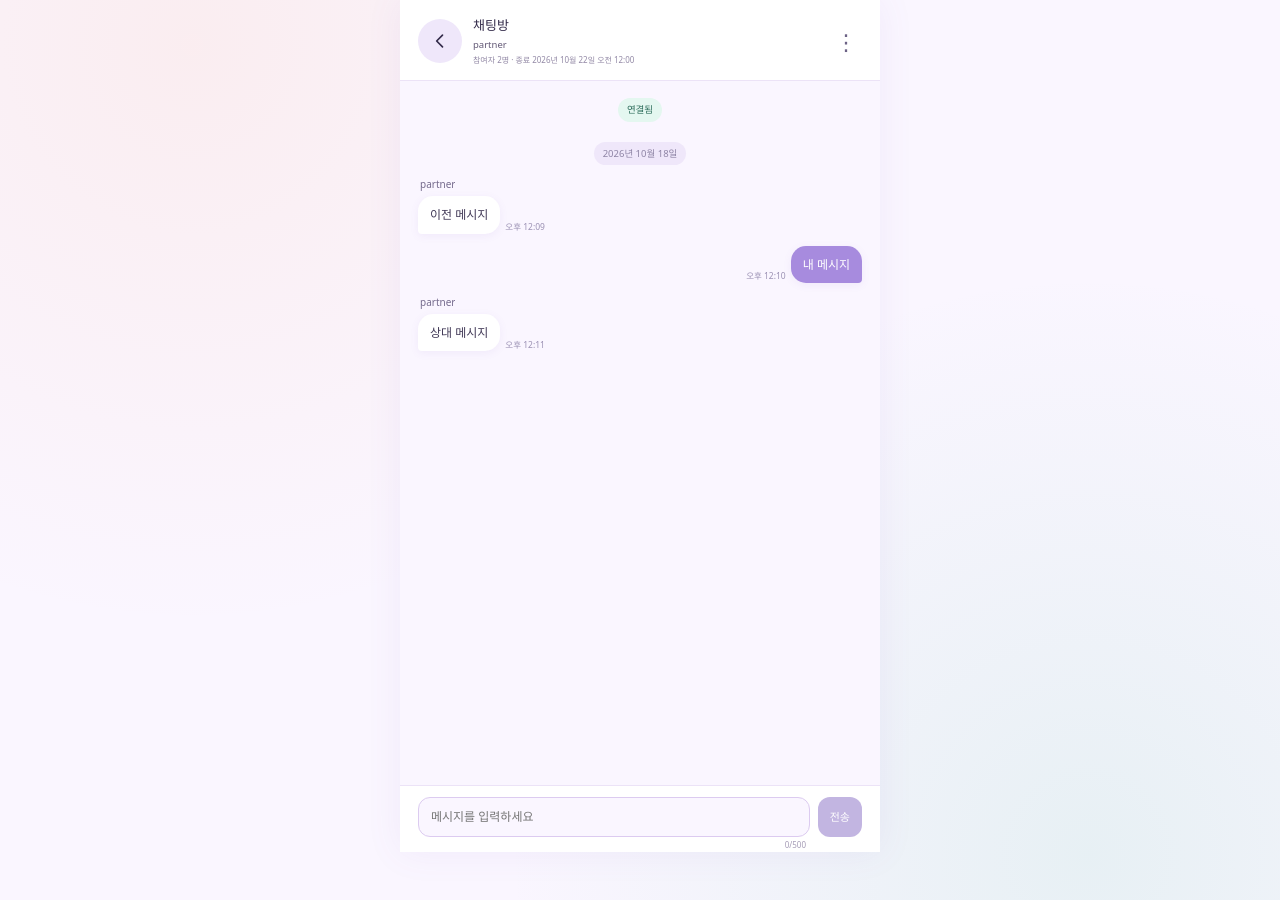
ChatRoomPage REST integration › keeps the room and shows an error when the confirmed leave request fails
Expected: the text "상대 메시지" is shown, top-left (418, 314), bottom-right (500, 352)
Click the button named "채팅방 메뉴". click: (846, 41)
box: top-left (830, 25), bottom-right (862, 57)
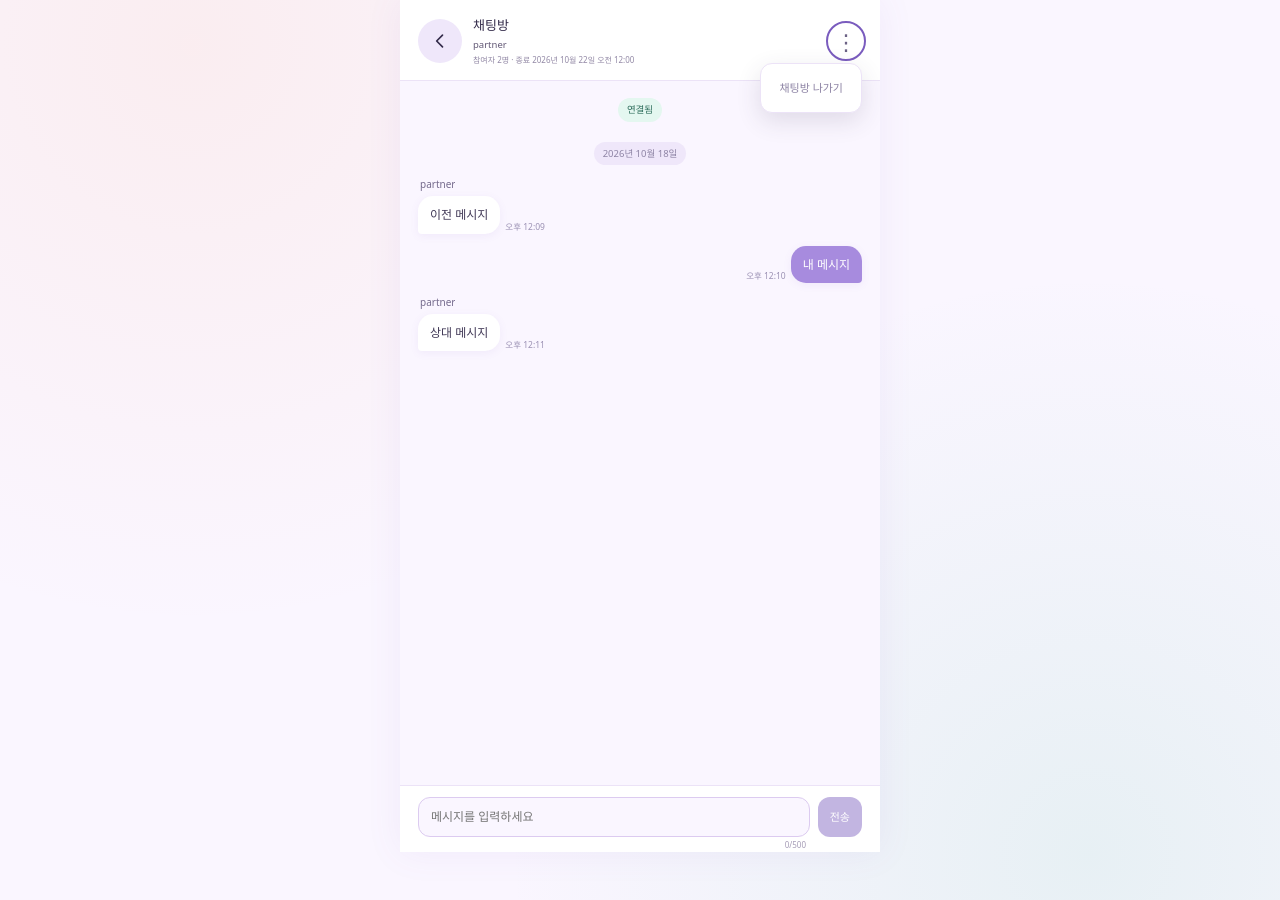
Click the menu item "채팅방 나가기". click: (811, 88)
box: top-left (767, 70), bottom-right (855, 106)
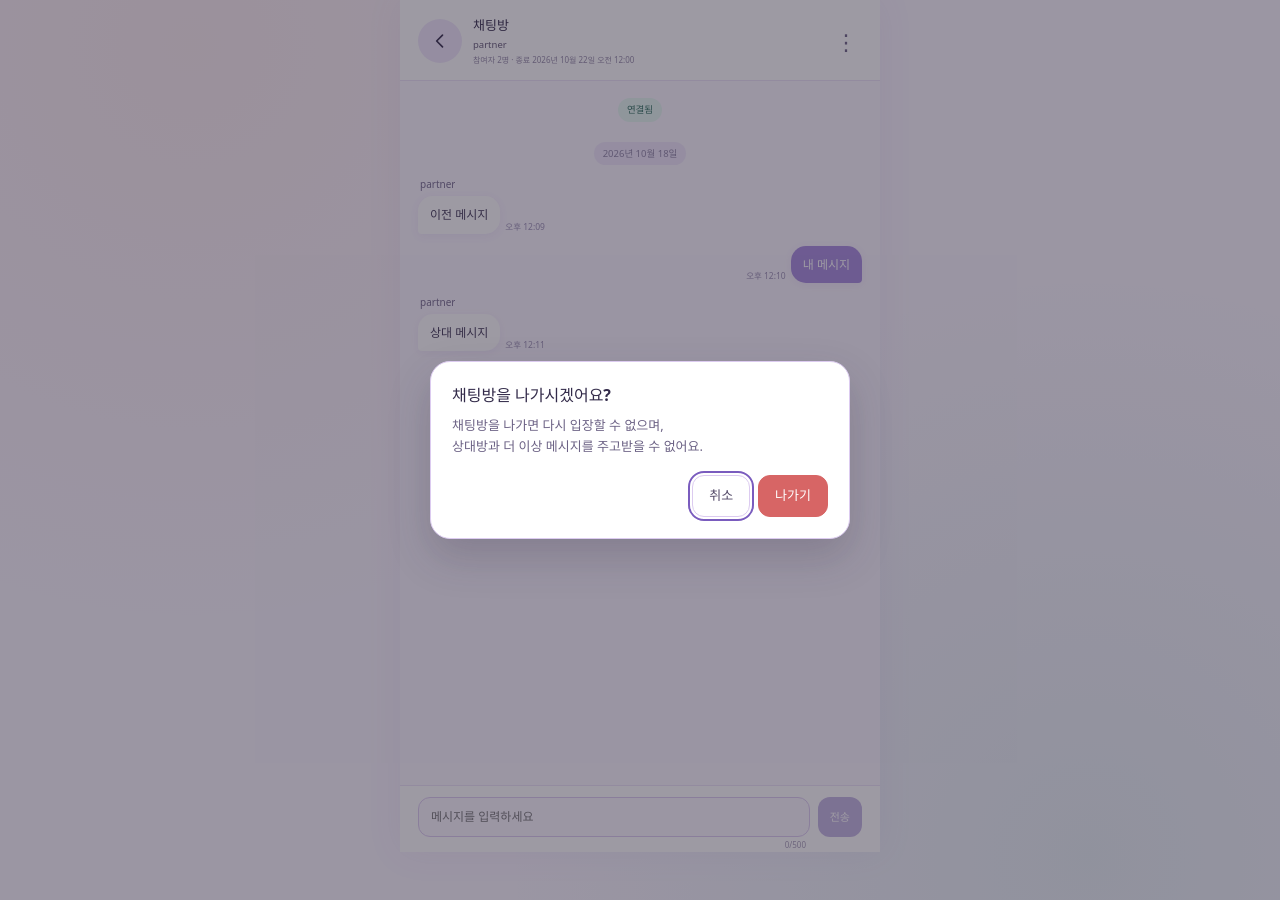
Click the button "나가기". click: (793, 496)
box: top-left (758, 475), bottom-right (828, 517)
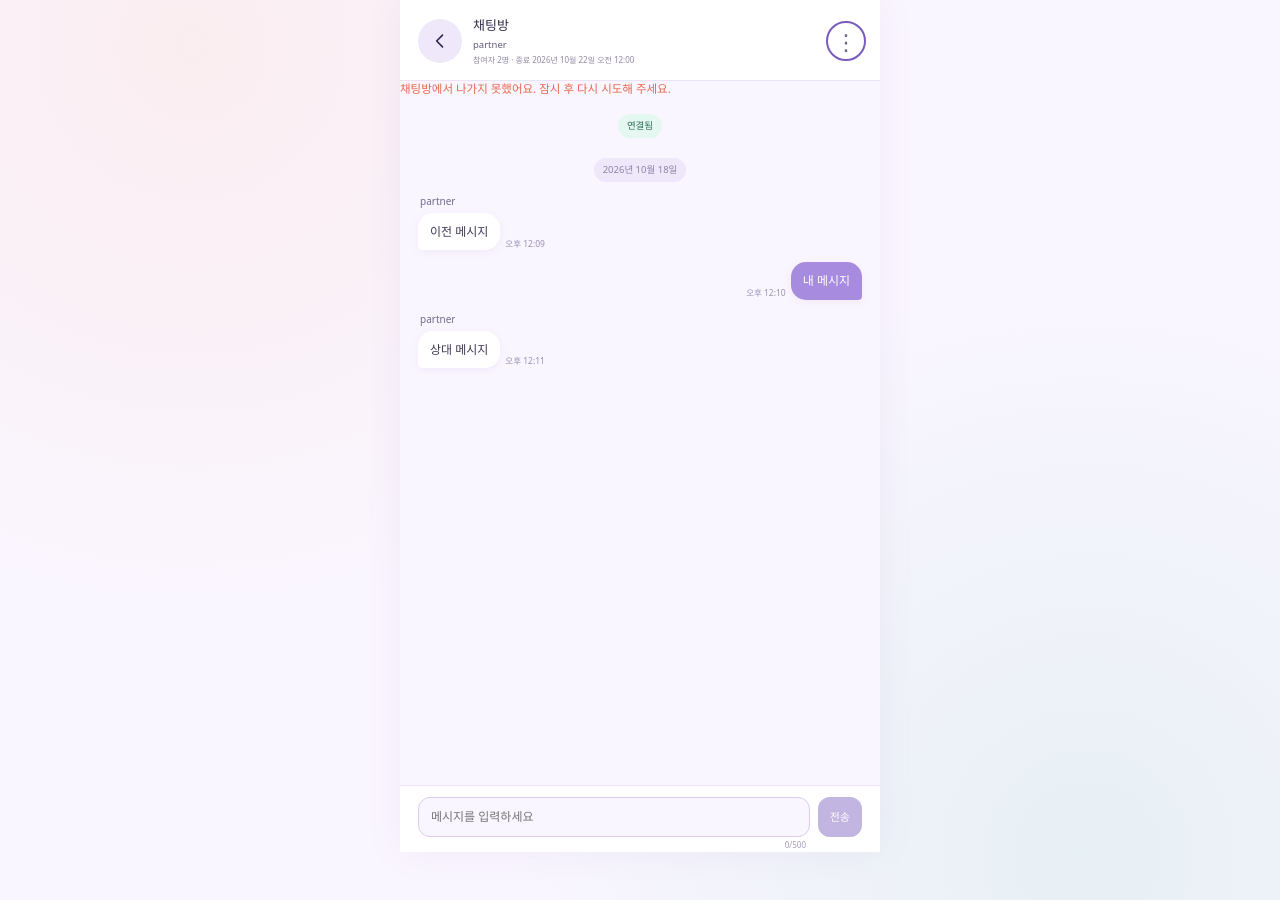
Expected: the heading "채팅방" is shown, top-left (473, 16), bottom-right (509, 34)
Result: the message "채팅방에서 나가지 못했어요. 잠시 후 다시 시도해 주세요." is shown at top-left (400, 81), bottom-right (671, 96)
Result: the dialog is gone
